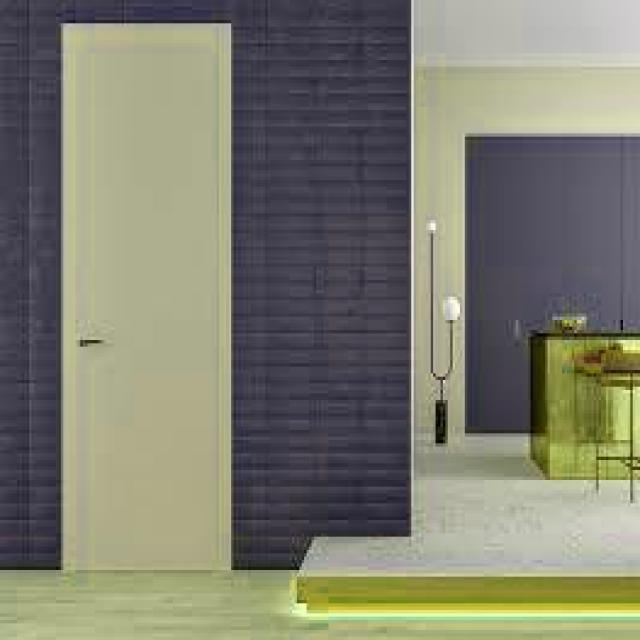door: (59, 21, 231, 572)
